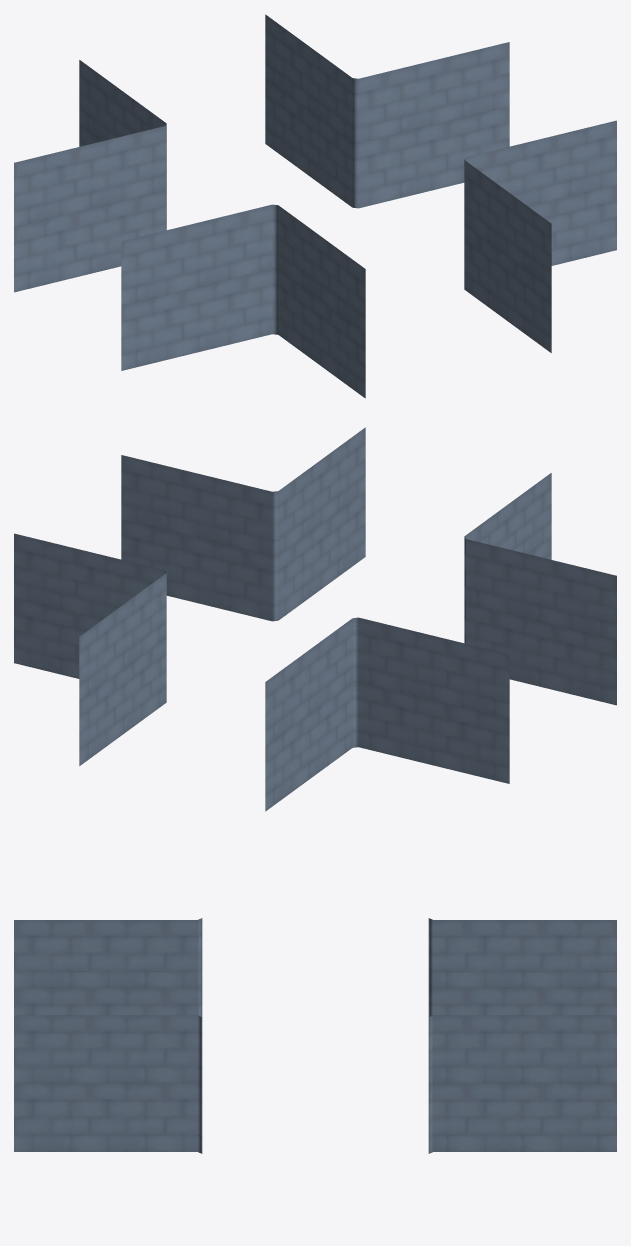
File: Tile4Hallway.fbx
3 renders of one model, top to bottom at view 1: azimuth 30°, elevation 25°; view 2: azimuth 150°, elevation 25°; view 3: azimuth 270°, elevation 25°, orthographic. The views are drawn at different scales.
Parts seen in each view (by area): view 1: Tile4Hallway; view 2: Tile4Hallway; view 3: Tile4Hallway.
Part boxes in pixels (<box>): Tile4Hallway: <box>14,14,616,398</box>; Tile4Hallway: <box>14,427,616,811</box>; Tile4Hallway: <box>14,918,616,1153</box>.
Size of the model in its own units: 16 by 4 by 16.
